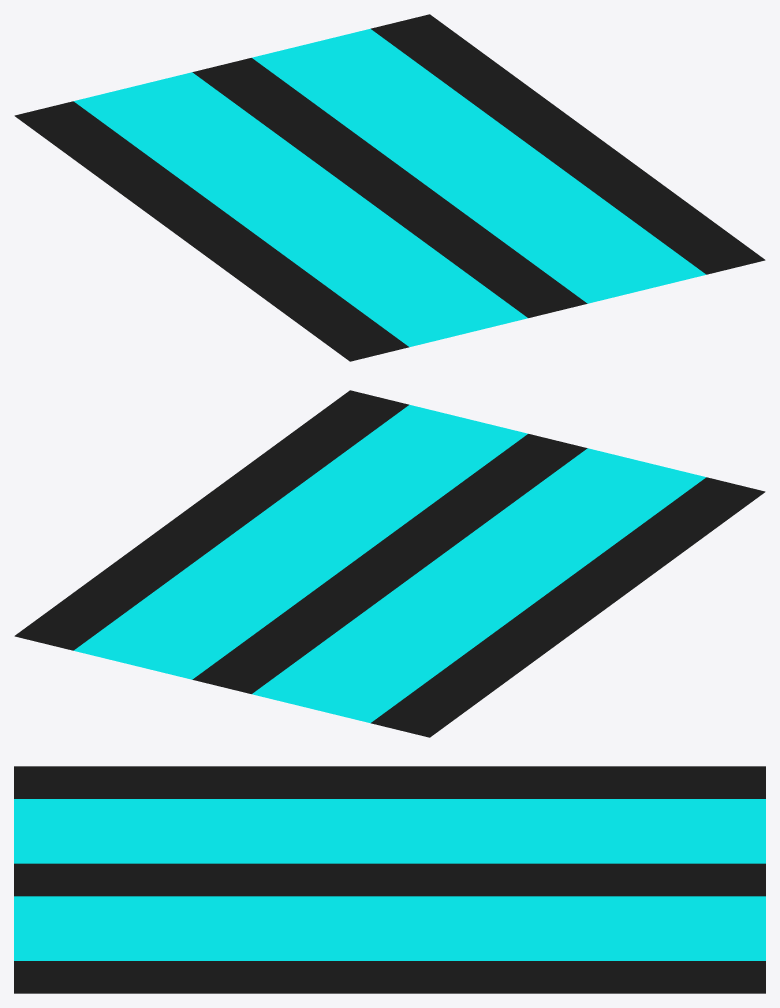
File: RaceTrack_Straight_7m 1.fbx
The picture shows the model from 3 angles, top to bottom: view 1: azimuth 30°, elevation 25°; view 2: azimuth 150°, elevation 25°; view 3: azimuth 270°, elevation 25°; orthographic projection. The views are drawn at different scales.
Visible parts, largest first — view 1: Straight_7m; view 2: Straight_7m; view 3: Straight_7m.
Boxes of the visible parts, x1,y1,x2,y2 form: Straight_7m: [14, 14, 765, 361]; Straight_7m: [14, 390, 765, 737]; Straight_7m: [14, 766, 765, 993].
Bounding box in the file's own units: 5 × 6.12e-07 × 7.
